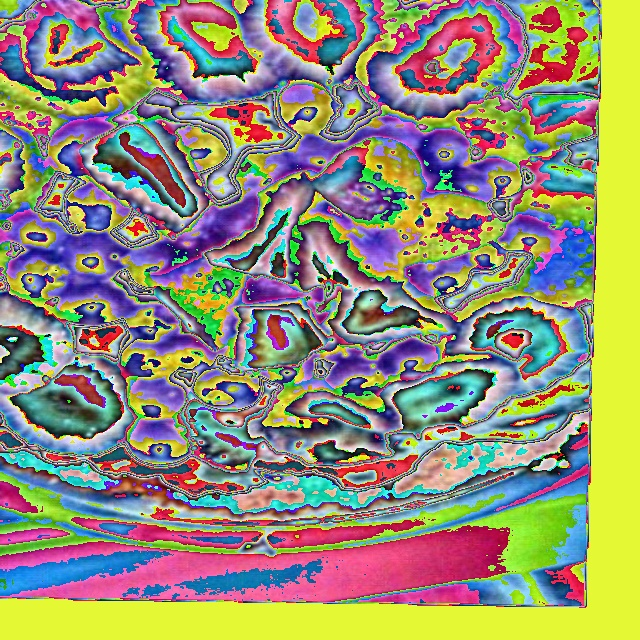background: (0, 0, 602, 500)
